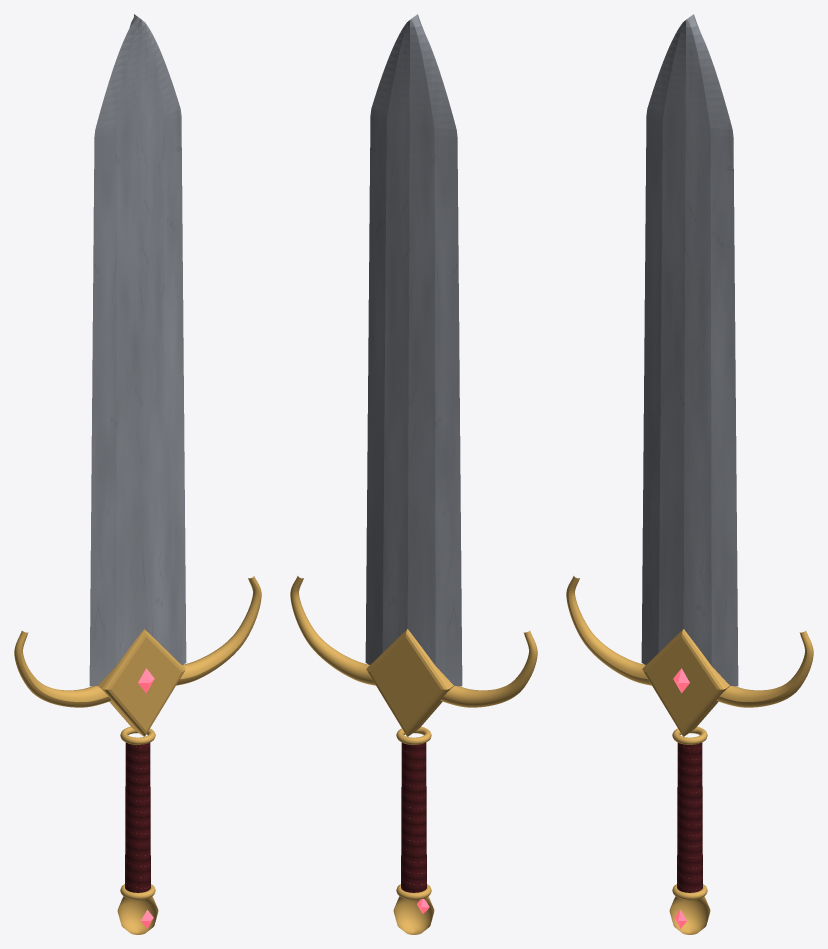
The model's file is greatsword.glb.
3 views of the same model, side by side, from view 1: azimuth 30°, elevation 25°; view 2: azimuth 150°, elevation 25°; view 3: azimuth 330°, elevation 25° (orthographic).
Parts seen in each view (by area): view 1: blade, guard, grip; view 2: blade, guard, grip; view 3: blade, guard, grip.
Boxes of the visible parts, <box> form: blade: <box>89,14,186,686</box>; guard: <box>14,576,261,934</box>; grip: <box>125,742,150,892</box>; blade: <box>365,14,462,686</box>; guard: <box>290,576,537,934</box>; grip: <box>401,742,426,892</box>; blade: <box>641,14,738,686</box>; guard: <box>566,576,813,934</box>; grip: <box>677,742,702,892</box>.
Bounding box in the file's own units: 1.53 × 5.43 × 0.237.
4 materials, 2 textured.
